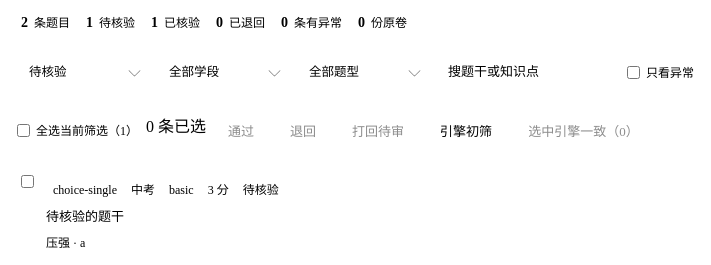
Test: AdminContentTab › lists only the status the filter asks for
The width and height of the screenshot is (711, 265).
Expected: the text "待核验的题干" is shown, left=46, top=209, right=124, bottom=224
Expected: the text "已核验的题干" is not shown
Click the dropdown labelled "待核验". click: (83,72)
box: left=17, top=55, right=149, bottom=89
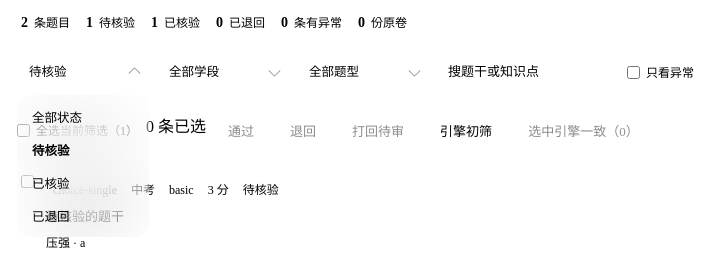
Click the option "已核验". click: (51,184)
box: left=32, top=177, right=70, bottom=191
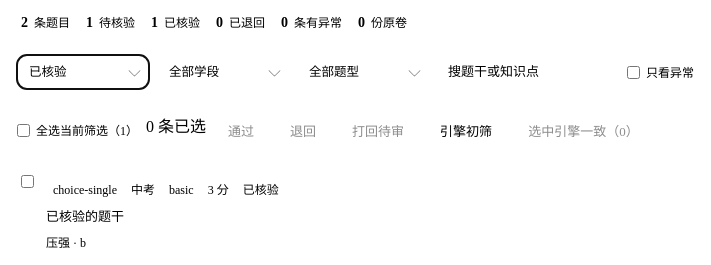
Result: the text "已核验的题干" is shown at left=46, top=209, right=124, bottom=224
Result: the text "待核验的题干" is gone
